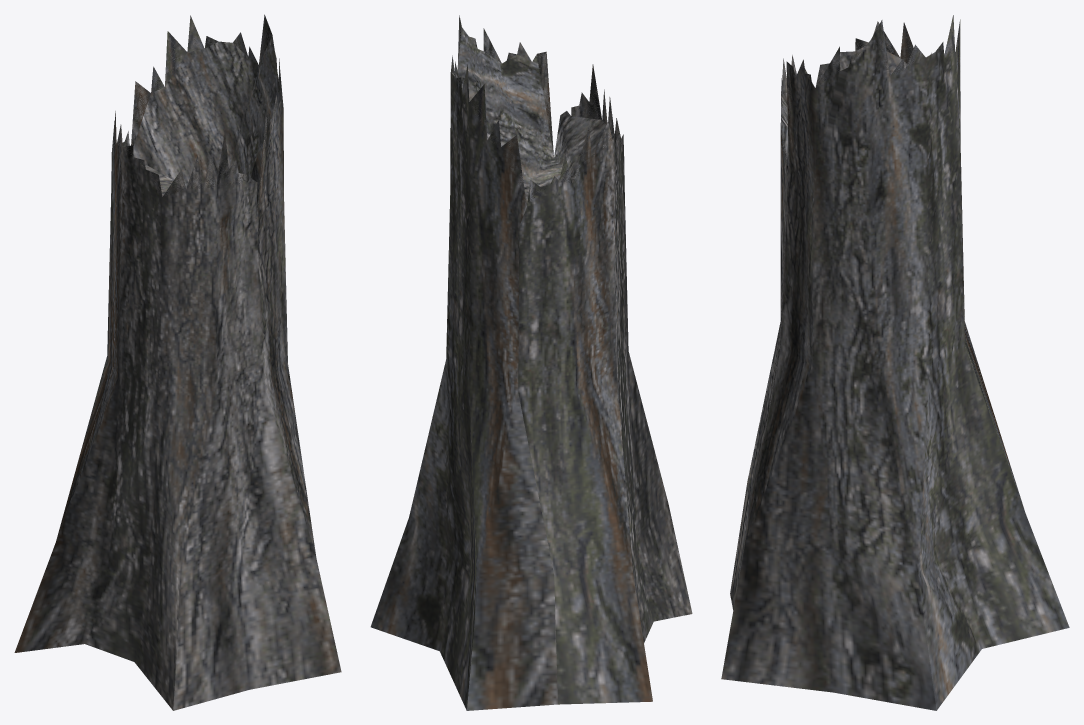
The model's file is SC_bingfengyiji_09.FBX.
The picture shows the model from 3 angles, left to right: view 1: azimuth 30°, elevation 25°; view 2: azimuth 150°, elevation 25°; view 3: azimuth 270°, elevation 25°; orthographic projection. The views are drawn at different scales.
Parts seen in each view (by area): view 1: SC_bingfengyiji_09; view 2: SC_bingfengyiji_09; view 3: SC_bingfengyiji_09.
Part boxes in pixels (x1,y1,x2,y2): SC_bingfengyiji_09: [14, 14, 341, 710]; SC_bingfengyiji_09: [370, 15, 692, 710]; SC_bingfengyiji_09: [721, 15, 1069, 710].
Size of the model in its own units: 101 by 206 by 98.29.
